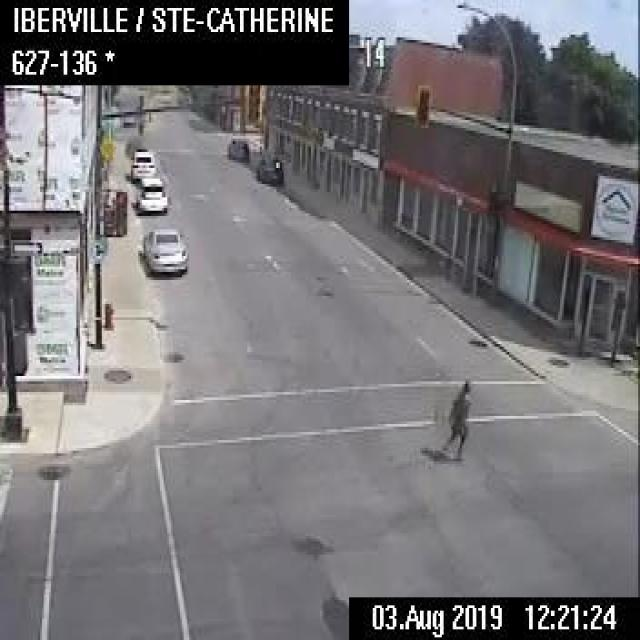pedestrian: (436, 376, 471, 459)
vehicle: (134, 224, 191, 275), (132, 174, 168, 216), (254, 148, 284, 182), (129, 146, 154, 175), (225, 136, 249, 161)
